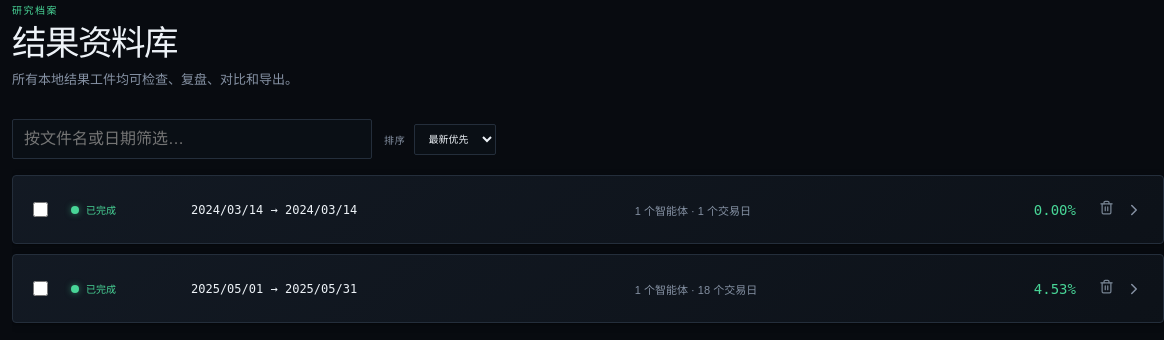
Results › filters and sorts the library
Expected: the button "已完成 2024/03/14 → 2024/03/14 1 个智能体 · 1 个交易日 0.00%" is shown, [12, 175, 1163, 244]
Expected: the button "已完成 2025/05/01 → 2025/05/31 1 个智能体 · 18 个交易日 4.53%" is shown, [12, 254, 1163, 323]
Select "收益率" in the dropdown named "结果排序方式": (455, 139) [414, 124, 496, 155]
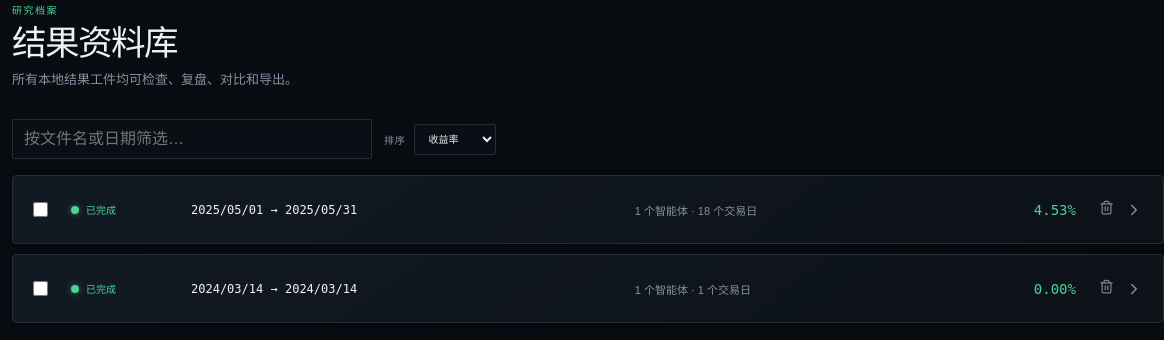
Expected: the button "已完成 2025/05/01 → 2025/05/31 1 个智能体 · 18 个交易日 4.53%" is shown, [12, 175, 1163, 244]
Expected: the button "已完成 2024/03/14 → 2024/03/14 1 个智能体 · 1 个交易日 0.00%" is shown, [12, 254, 1163, 323]
In the search field named "筛选结果工件": (192, 139) [12, 119, 372, 159], type "20260719"
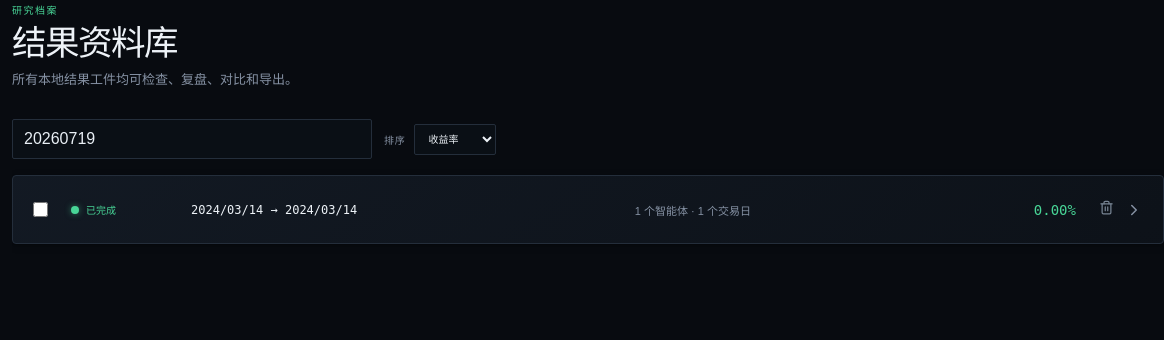
Expected: the text "2024/03/14 → 2024/03/14" is shown, [191, 203, 357, 217]
Expected: the button "2025/05/01" is gone
